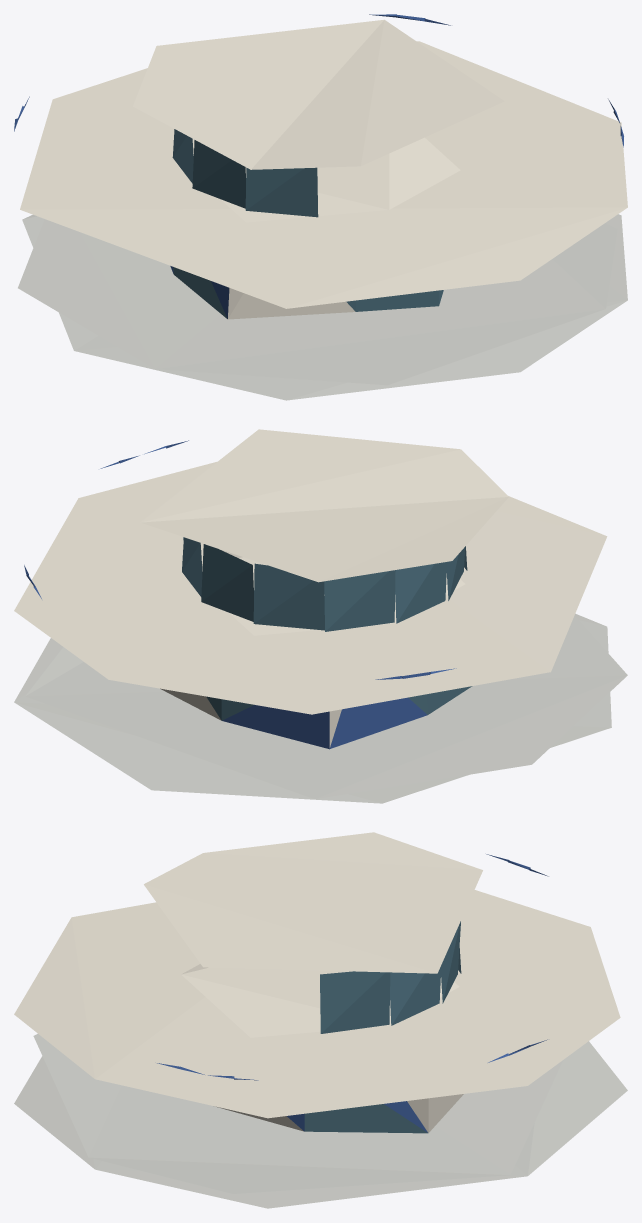
File: blauwe-theehuis.lod2.glb
The picture shows the model from 3 angles, top to bottom: view 1: azimuth 30°, elevation 25°; view 2: azimuth 150°, elevation 25°; view 3: azimuth 270°, elevation 25°; orthographic projection. The views are drawn at different scales.
Visible parts, largest first — view 1: lod2; view 2: lod2; view 3: lod2.
Boxes of the visible parts, x1=… form: lod2: x1=14, y1=14, x2=627, y2=400; lod2: x1=14, y1=429, x2=627, y2=803; lod2: x1=14, y1=832, x2=627, y2=1208.
Size of the model in its own units: 20.2 by 6.38 by 20.27.
